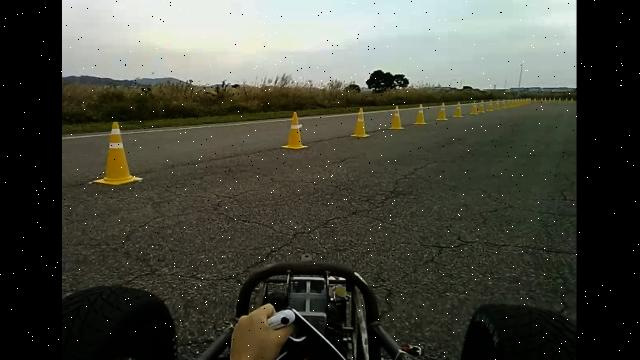yellow cone: (91, 120, 143, 185), (281, 110, 309, 150), (350, 107, 370, 138), (389, 104, 405, 130), (414, 103, 428, 125), (436, 102, 448, 121), (453, 100, 463, 117), (470, 100, 479, 115), (478, 100, 486, 114), (522, 98, 532, 106), (487, 101, 494, 112), (501, 99, 508, 109), (494, 100, 501, 110)
